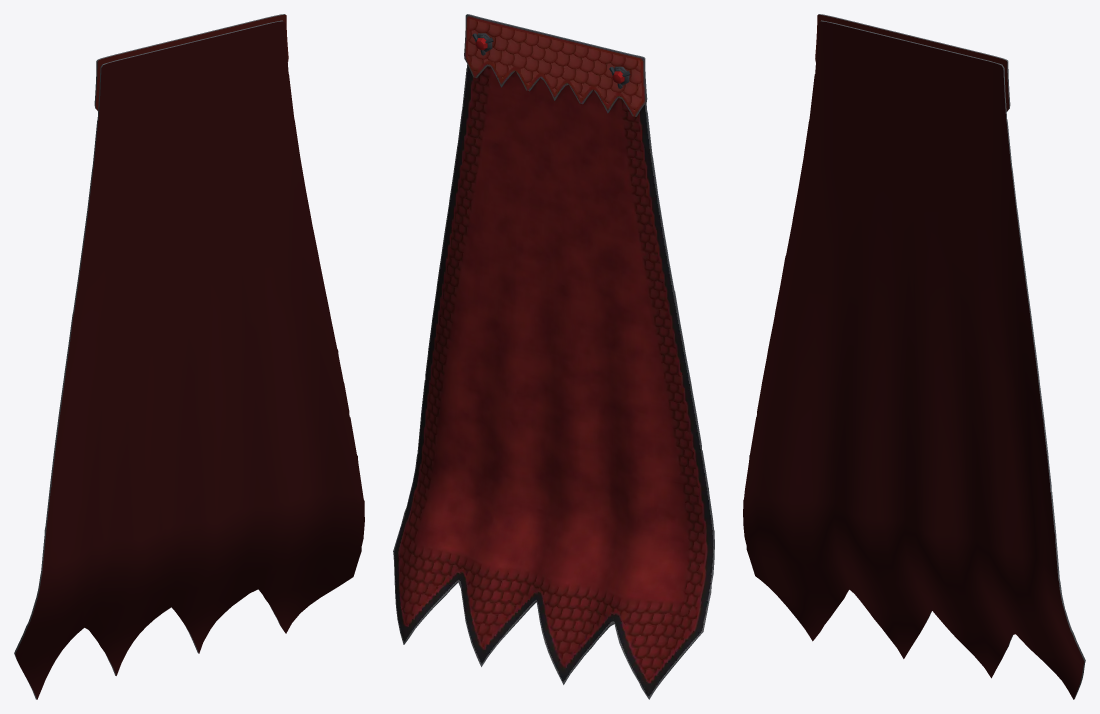
The model's file is cape_dragon.glb.
The picture shows the model from 3 angles, left to right: view 1: azimuth 30°, elevation 25°; view 2: azimuth 150°, elevation 25°; view 3: azimuth 330°, elevation 25°; orthographic projection. The views are drawn at different scales.
Parts seen in each view (by area): view 1: cape; view 2: cape; view 3: cape.
Part boxes in pixels (x1,y1,x2,y2): cape: [14, 14, 364, 699]; cape: [393, 14, 714, 699]; cape: [743, 14, 1085, 699].
Bounding box in the file's own units: 0.5434 × 1.02 × 0.1418.
Materials: 1 (1 with a texture image).
